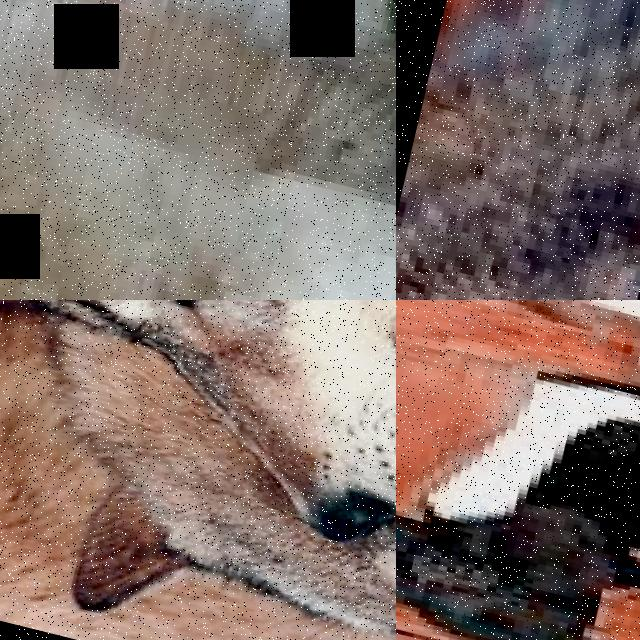dog: (0, 0, 396, 300), (396, 300, 640, 640), (521, 543, 640, 640), (569, 300, 640, 451), (597, 401, 640, 616)
wolf: (0, 300, 396, 640), (0, 300, 396, 580), (396, 0, 640, 300)
